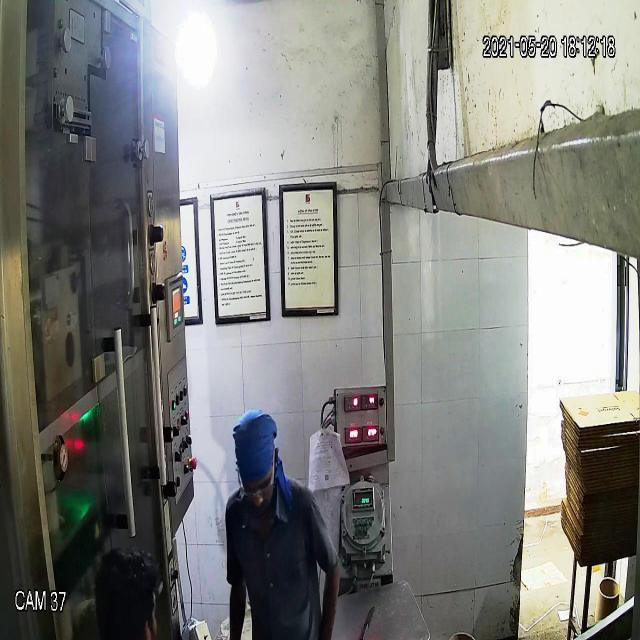glasses: (235, 465, 281, 506)
